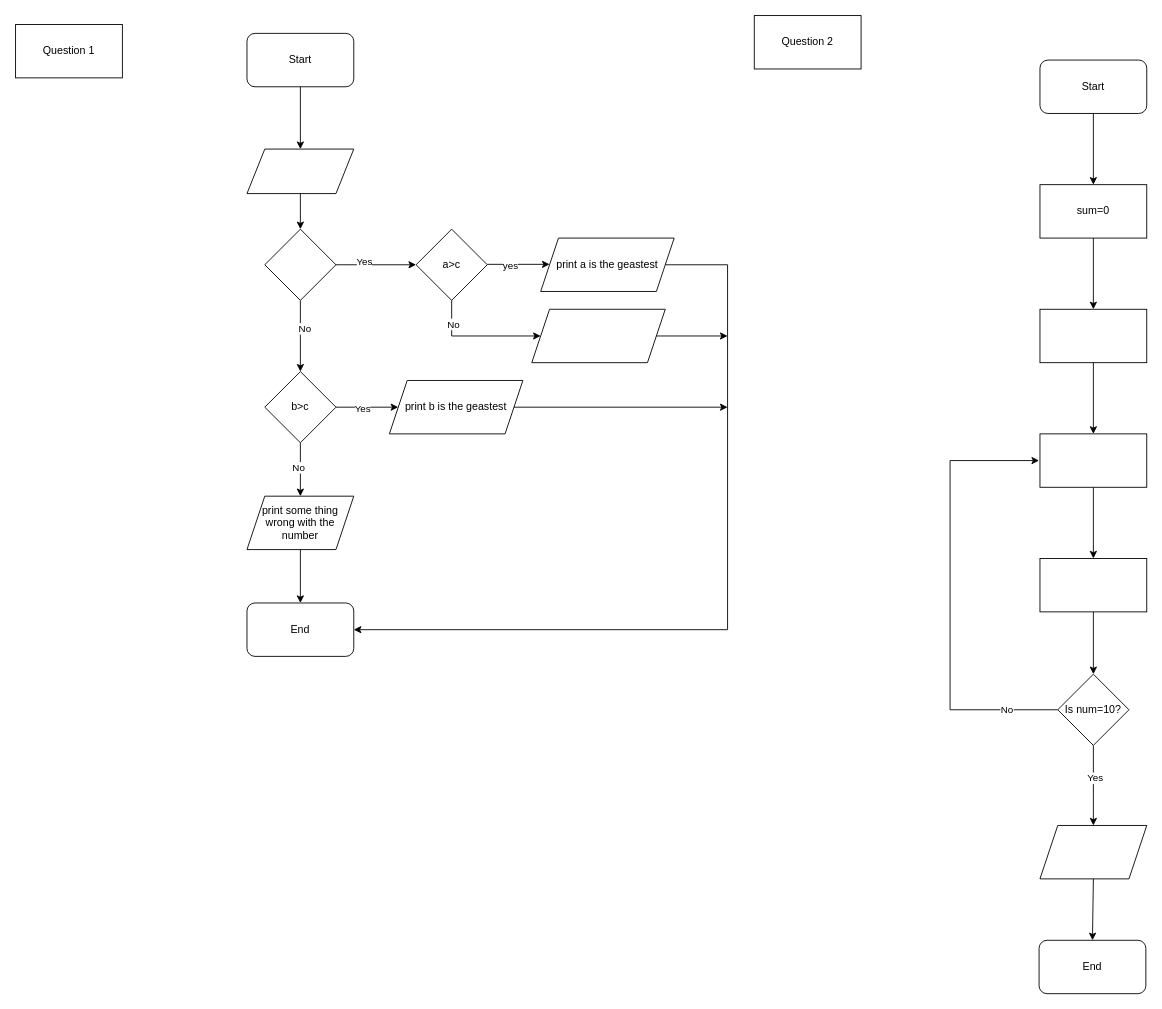
This 1162x1009 diagram has some shape labels left out. Here are the shapes that lost their labels. From the top down, the centre of each, then its label:
At (300,171): "Input a,b,c".
At (300,264): "a>b".
At (598,335): "print c is the geastest".
At (1093,335): "num=0".
At (1093,460): "num=num+1".
At (1093,585): "sum=sum+num".
At (1093,852): "print sum".
